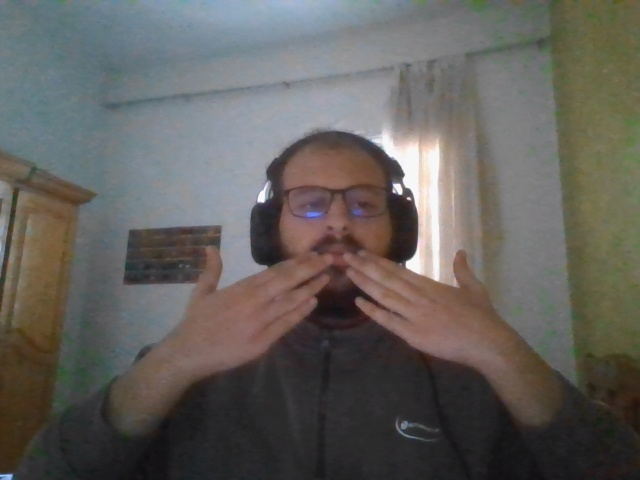Thank You: (187, 244, 491, 370)
